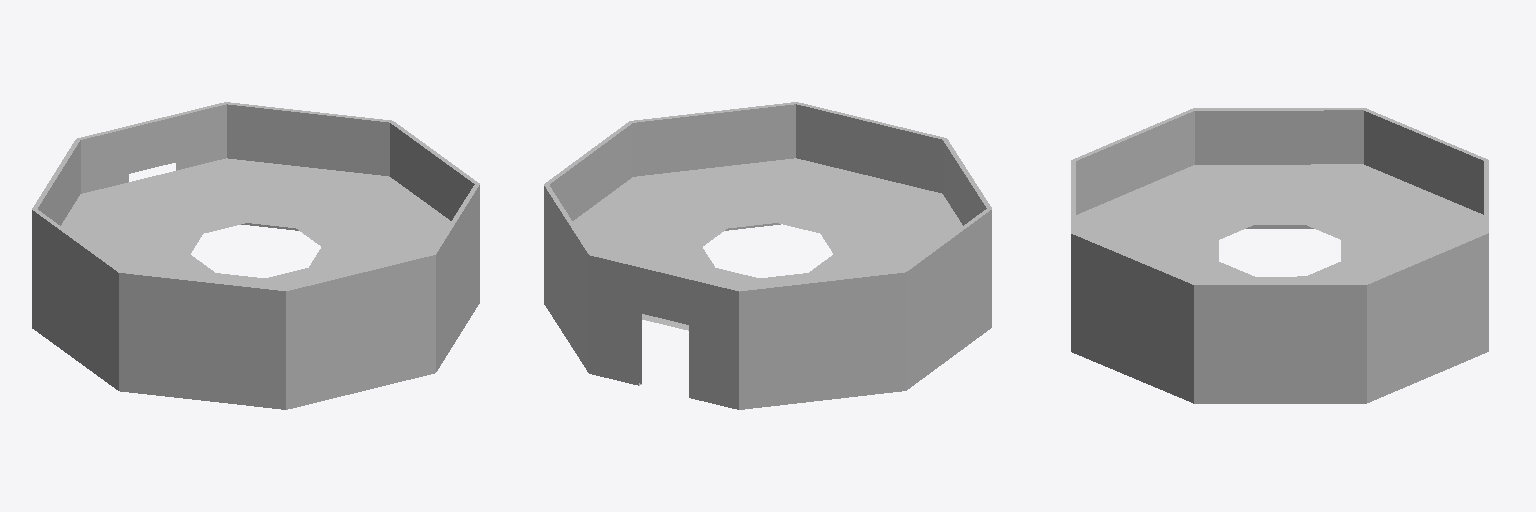
File: lighthousecol_01.obj
The picture shows the model from 3 angles: view 1: azimuth 30°, elevation 25°; view 2: azimuth 150°, elevation 25°; view 3: azimuth 270°, elevation 25°; orthographic projection.
Parts seen in each view (by area): view 1: Cylinder.004; view 2: Cylinder.004; view 3: Cylinder.004.
Boxes of the visible parts, <box> form: Cylinder.004: <box>32,102,479,409</box>; Cylinder.004: <box>544,102,991,409</box>; Cylinder.004: <box>1071,108,1488,403</box>.
Bounding box in the file's own units: 24.45 × 7.64 × 24.45.